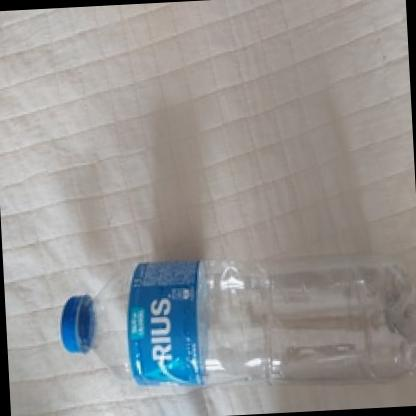plastic_bottles: (48, 241, 416, 400)
